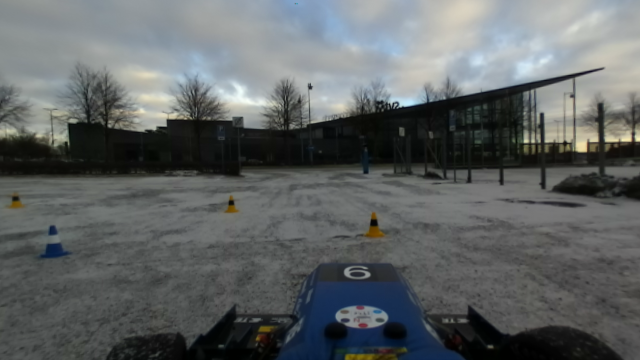blue: (34, 223, 74, 264)
yellow: (360, 211, 390, 241), (223, 193, 239, 213)
